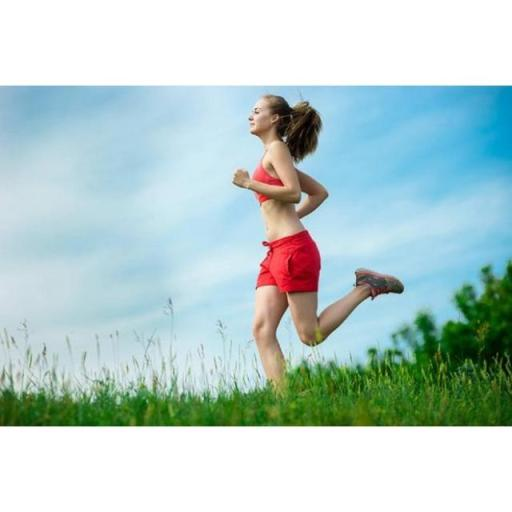Running: (218, 86, 414, 418)
